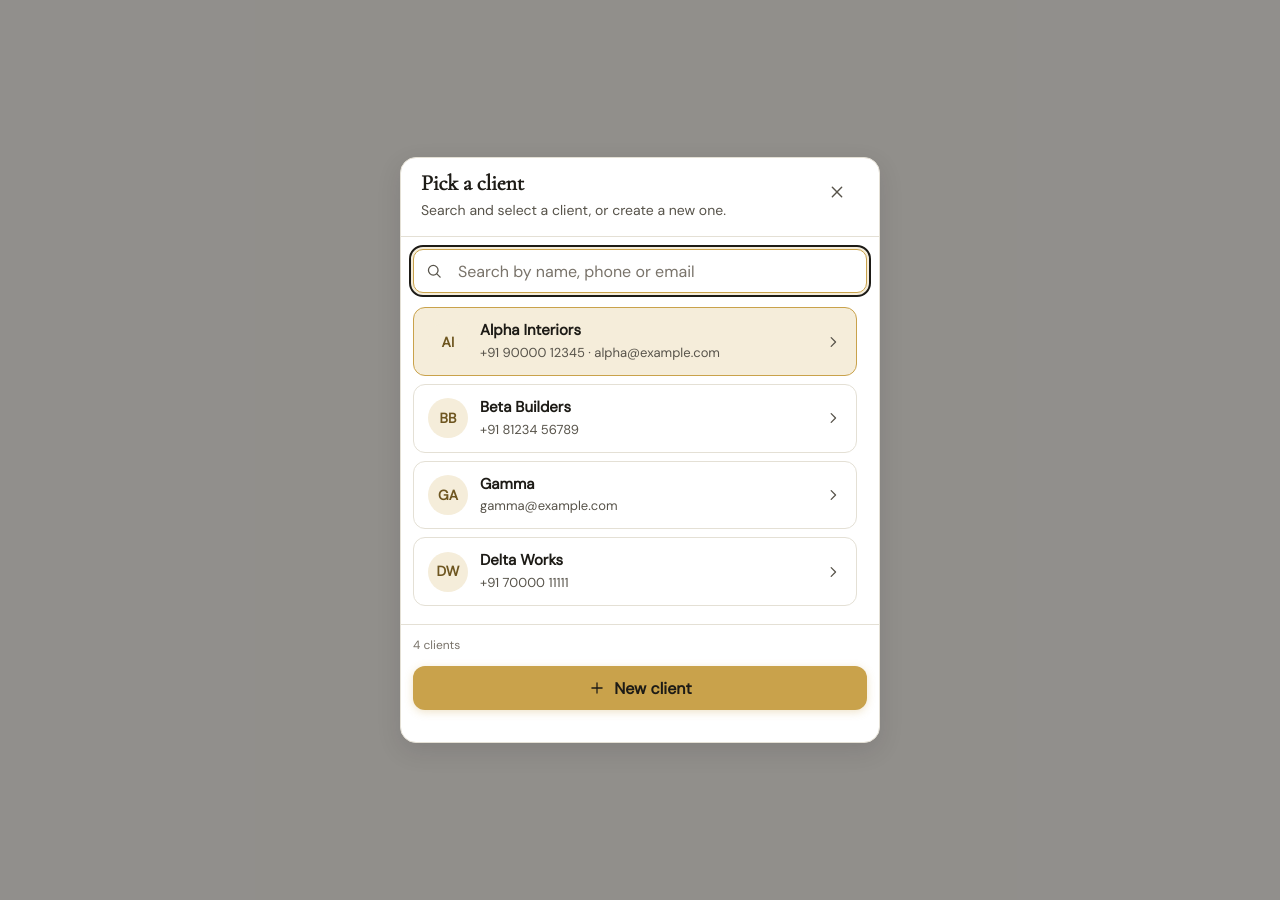
Test case: Client picker — search › offers to create the searched name when nothing matches
Step 1. Type "acme" into the search field with placeholder "Search by name, phone or email" → (640, 272), box [413,250,867,294]
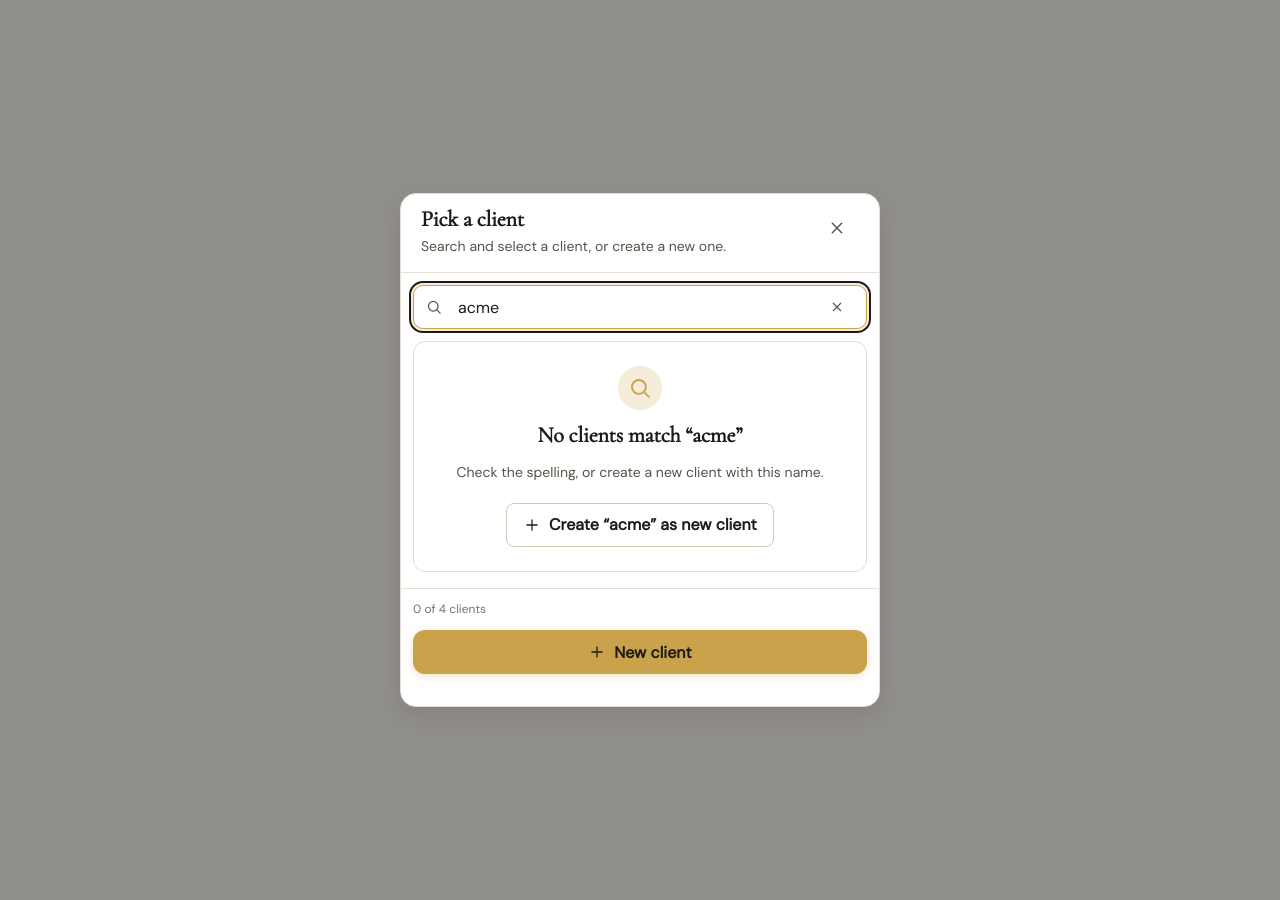
Expected: the heading "No clients match “acme”" is shown, [538,422,742,449]
Expected: the button "Create “acme” as new client" is shown, [506,503,774,547]
